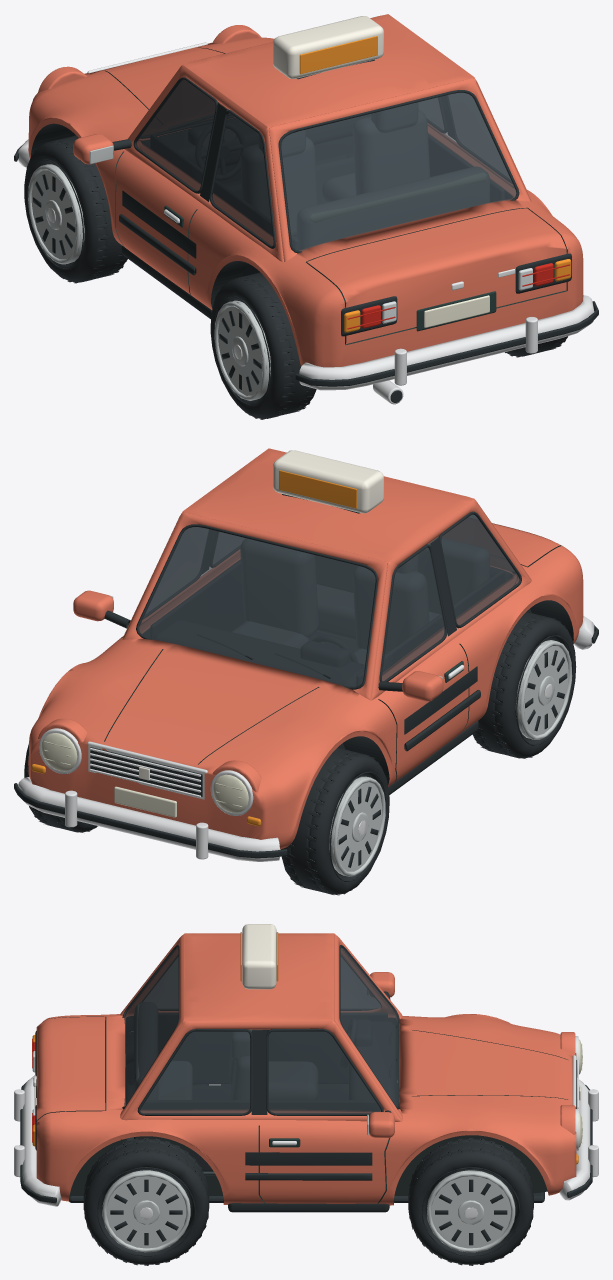
Rendered from taxi_lod1.fbx.
3 renders of one model, top to bottom at view 1: azimuth 30°, elevation 25°; view 2: azimuth 150°, elevation 25°; view 3: azimuth 270°, elevation 25°, orthographic. The views are drawn at different scales.
Parts seen in each view (by area): view 1: Body, Wheel_RL_Mesh, Wheel_FL_Mesh; view 2: Body, Wheel_FL_Mesh, Wheel_RL_Mesh, Wheel_FR_Mesh; view 3: Body, Wheel_RR_Mesh, Wheel_FR_Mesh.
Boxes of the visible parts, box(x1,y1,x2,y2) form: Body: box(14, 14, 598, 404); Wheel_RL_Mesh: box(210, 272, 316, 419); Wheel_FL_Mesh: box(24, 135, 127, 283); Body: box(14, 448, 598, 861); Wheel_FL_Mesh: box(280, 747, 389, 895); Wheel_RL_Mesh: box(472, 612, 576, 758); Wheel_FR_Mesh: box(24, 744, 97, 832); Body: box(14, 924, 598, 1212); Wheel_RR_Mesh: box(83, 1138, 209, 1265); Wheel_FR_Mesh: box(408, 1138, 533, 1265).
Bounding box in the file's own units: 231 × 184 × 373.
